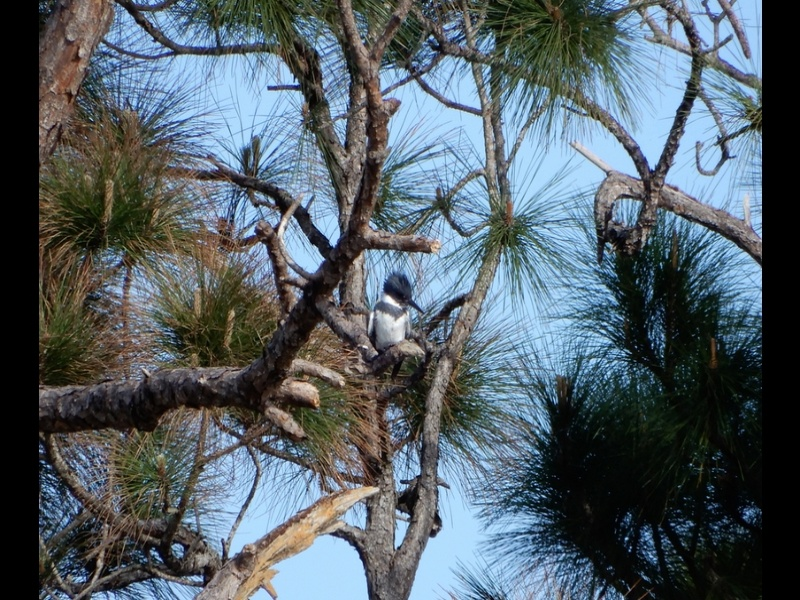kingfisher: (365, 273, 424, 364)
